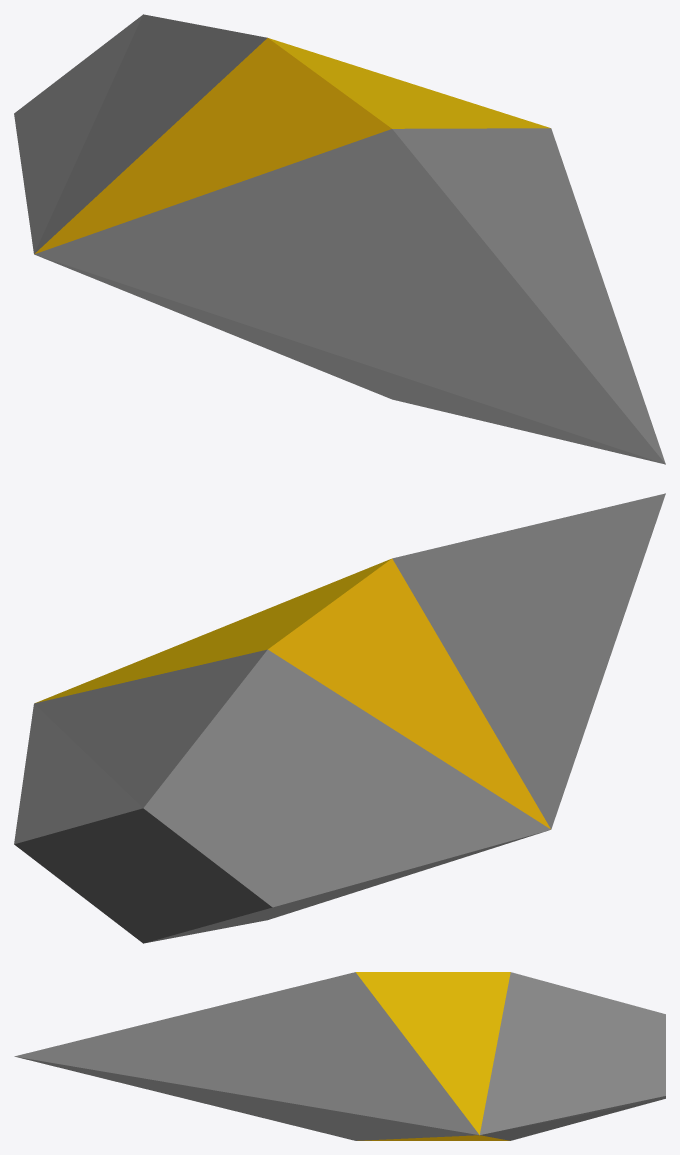
Rendered from python.obj.
3 renders of one model, top to bottom at view 1: azimuth 30°, elevation 25°; view 2: azimuth 150°, elevation 25°; view 3: azimuth 270°, elevation 25°, orthographic. The views are drawn at different scales.
Visible parts, largest first — view 1: python; view 2: python; view 3: python.
Part boxes in pixels (bbox=[...]): python: bbox=[14, 14, 665, 464]; python: bbox=[14, 493, 665, 943]; python: bbox=[14, 972, 665, 1140].
Size of the model in its own units: 192 by 96 by 336.
